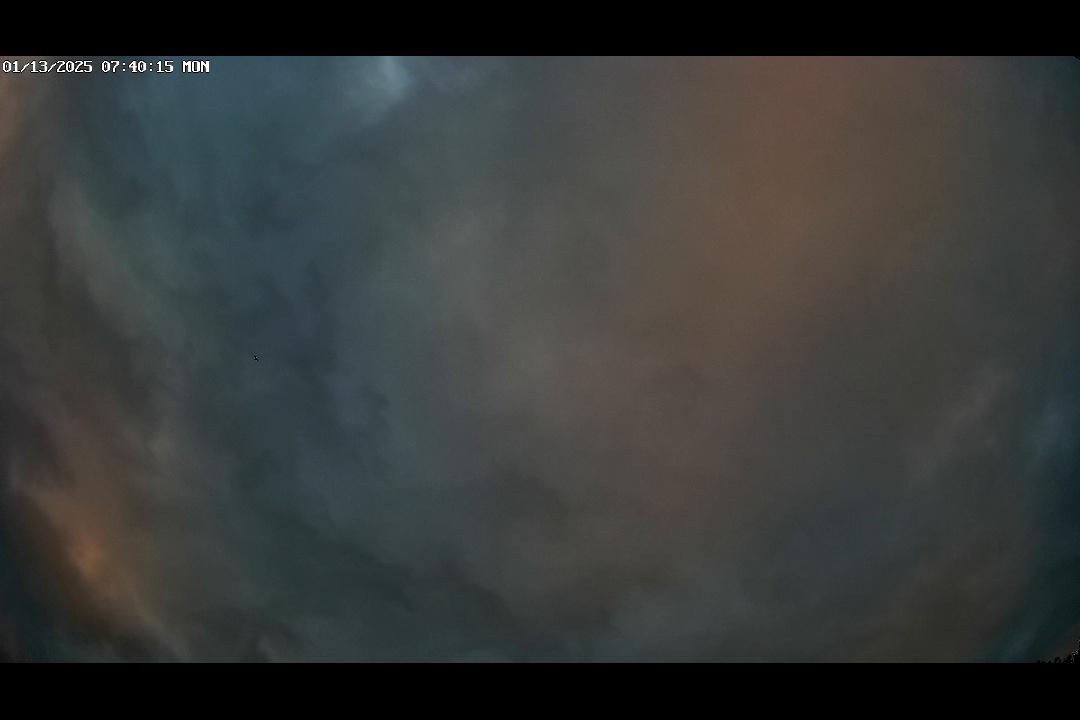Plane: (248, 348, 265, 369)
